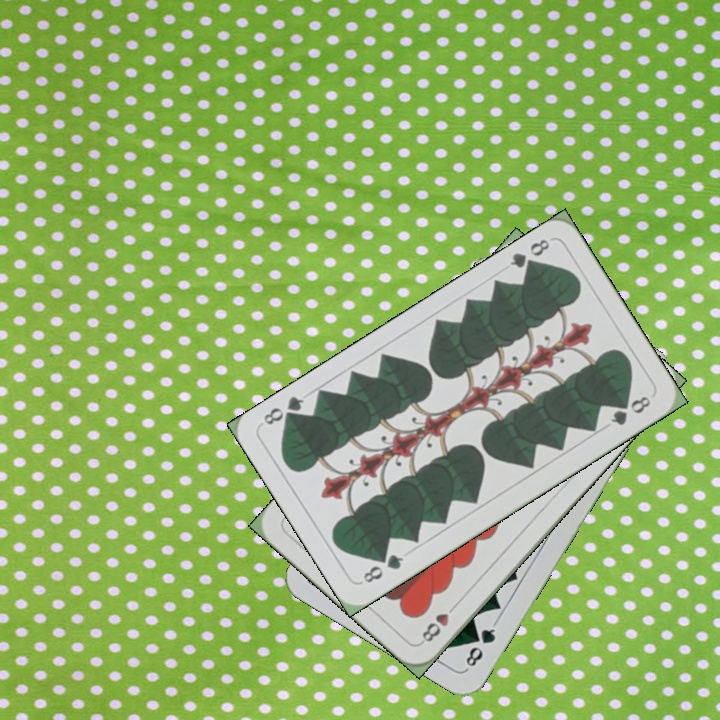G8: (461, 619, 499, 672), (506, 234, 553, 275), (359, 550, 406, 586)
H8: (417, 598, 461, 646)
